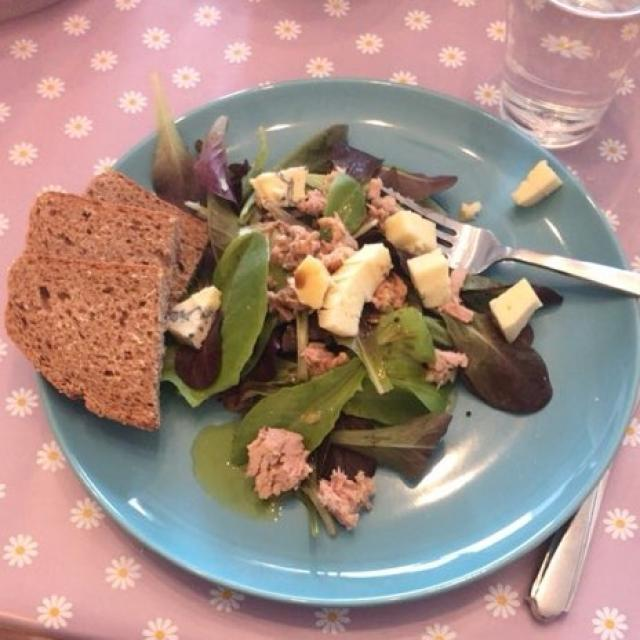bread: (13, 181, 194, 426)
cheese: (291, 155, 560, 337)
salad: (94, 112, 521, 528), (192, 262, 310, 501)
tuna: (256, 182, 404, 520)
